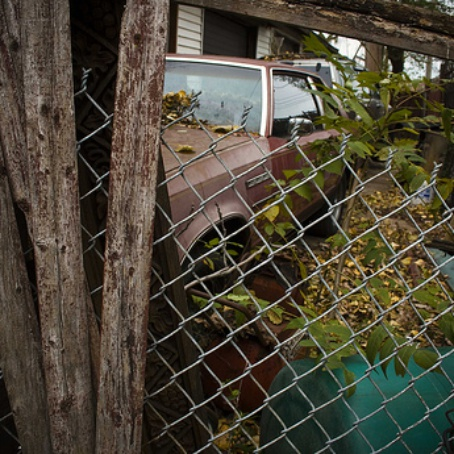car: (149, 82, 363, 290)
